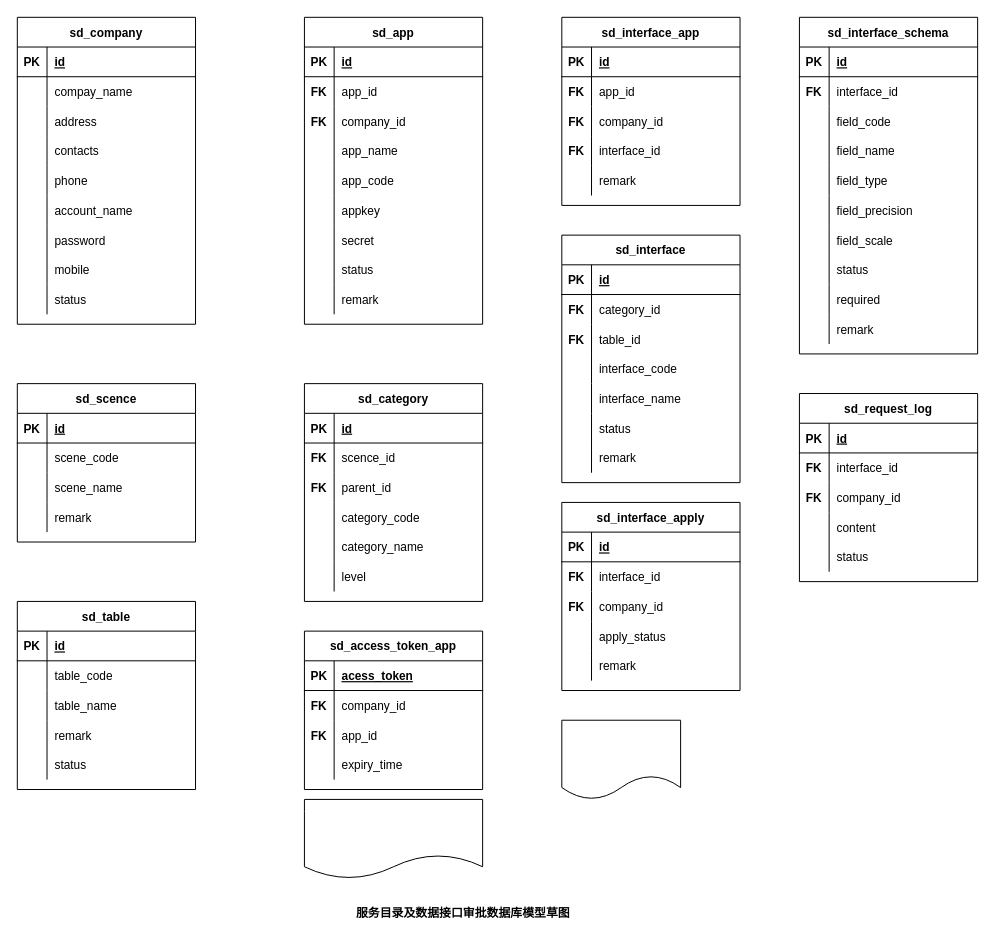
The diagram is 995 pixels wide and 945 high, and some of its shapes have lost their labels. Here are the shapes that lost their labels. From the top down, the centre of each, then its label:
point 621,759: 申请通过以后，向表sd_interface_app中添加一条记录，代表该企业可以访问该接口
point 393,838: 考虑到性能， sd_access_token_app 反映的关系 可以存储到Redis中去
